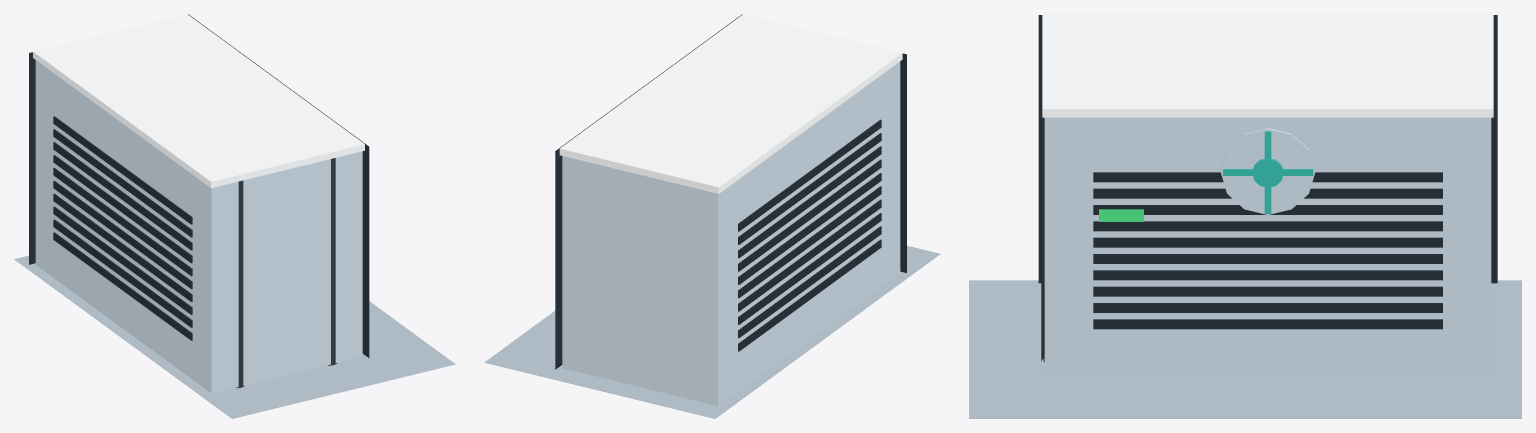
The model's file is cooling-unit.glb.
The picture shows the model from 3 angles, left to right: view 1: azimuth 30°, elevation 25°; view 2: azimuth 150°, elevation 25°; view 3: azimuth 270°, elevation 25°; orthographic projection. The views are drawn at different scales.
Visible parts, largest first — view 1: cooling-unit; view 2: cooling-unit; view 3: cooling-unit.
Boxes of the visible parts, x1,y1,x2,y2 form: cooling-unit: (14,14,455,418); cooling-unit: (484,14,940,418); cooling-unit: (969,14,1521,418).
Size of the model in its own units: 2.9 by 2.7 by 4.9.
